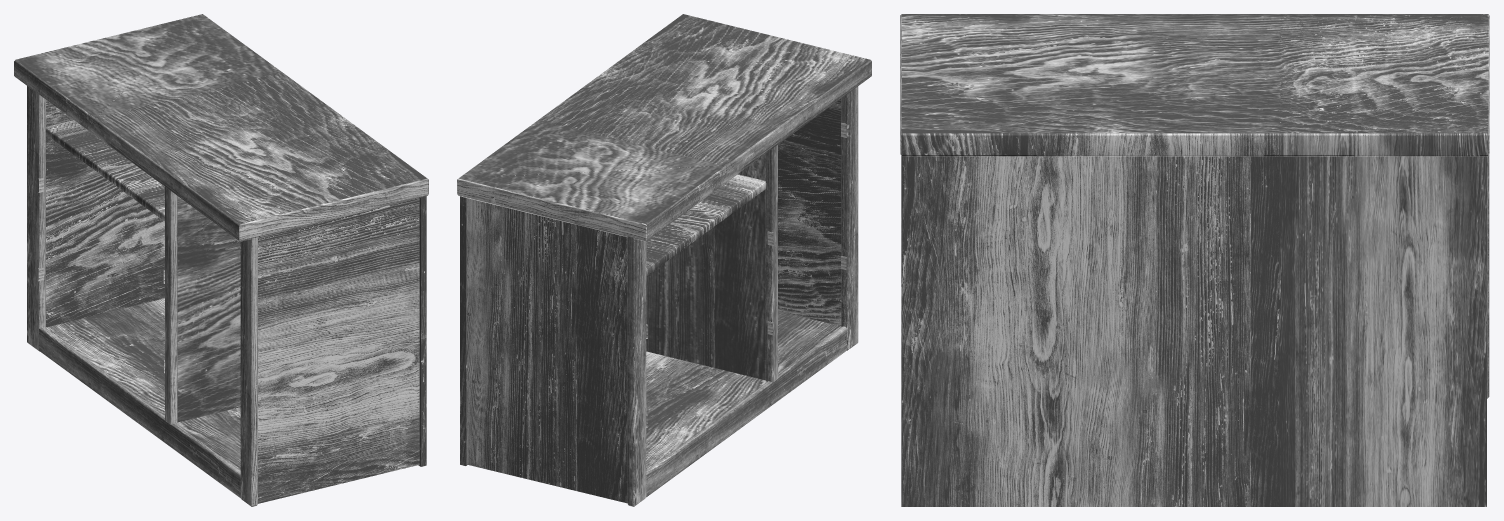
Rendered from SM_KitchenSet_A4.fbx.
3 views of the same model, side by side, from view 1: azimuth 30°, elevation 25°; view 2: azimuth 150°, elevation 25°; view 3: azimuth 270°, elevation 25° (orthographic). The views are drawn at different scales.
Visible parts, largest first — view 1: SM_KitchenSet_A4; view 2: SM_KitchenSet_A4; view 3: SM_KitchenSet_A4.
Boxes of the visible parts, box(x1,y1,x2,y2) form: SM_KitchenSet_A4: box(14, 14, 428, 506); SM_KitchenSet_A4: box(457, 14, 871, 506); SM_KitchenSet_A4: box(900, 14, 1489, 506).
Bounding box in the file's own units: 58.51 × 120 × 84.38.
2 materials, 2 textured.
